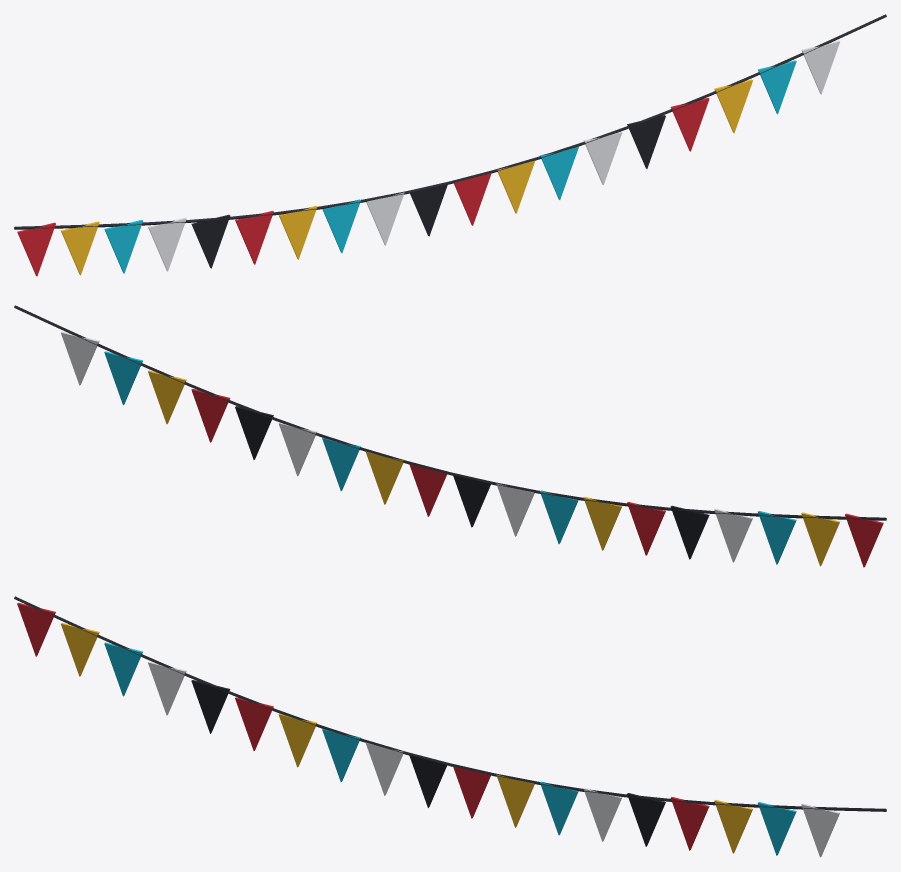
Rendered from PennantString.fbx.
3 views of the same model, one above another, from view 1: azimuth 30°, elevation 25°; view 2: azimuth 150°, elevation 25°; view 3: azimuth 330°, elevation 25° (orthographic).
Parts seen in each view (by area): view 1: PennantString; view 2: PennantString; view 3: PennantString.
Part boxes in pixels (bbox=[...]): PennantString: bbox=[14, 14, 886, 276]; PennantString: bbox=[14, 305, 886, 567]; PennantString: bbox=[14, 596, 886, 857].
Size of the model in its own units: 30.02 by 3.64 by 0.1.
Materials: 1 (1 with a texture image).
